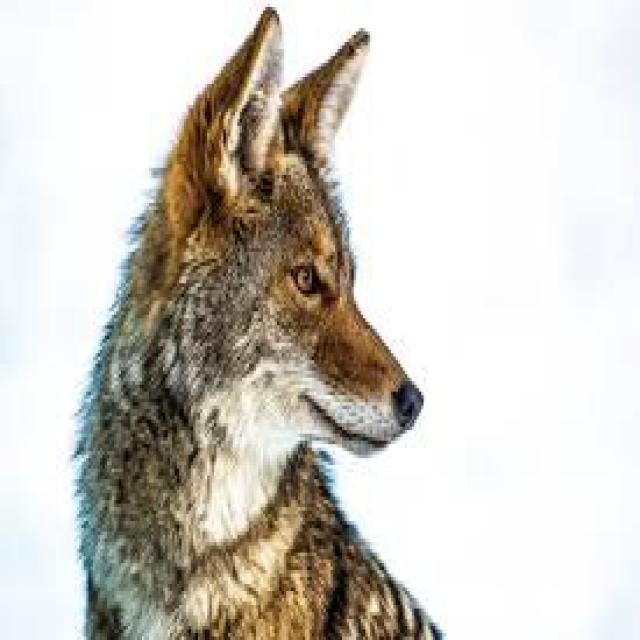Coyote: (66, 0, 457, 640)
